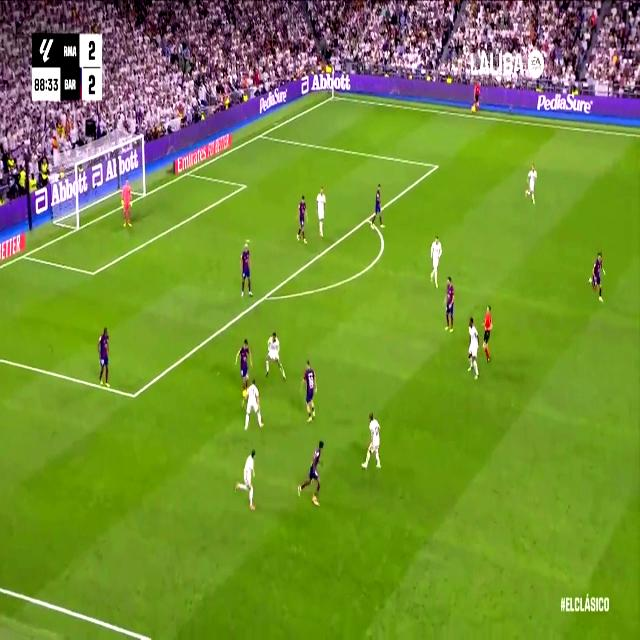bigarea_bottom_inner: (129, 383, 139, 408)
bigarea_top_inner: (432, 157, 440, 175)
bigarea_top_outter: (257, 128, 265, 142)
bottom_arc_area_intersection: (262, 289, 268, 304)
corner: (329, 91, 337, 102)
smallarea_bottom_inner: (89, 264, 97, 282)
smallarea_bottom_outter: (20, 247, 28, 263)
smallarea_top_inner: (242, 179, 248, 192)
top_arc_area_intersection: (363, 209, 372, 227)
